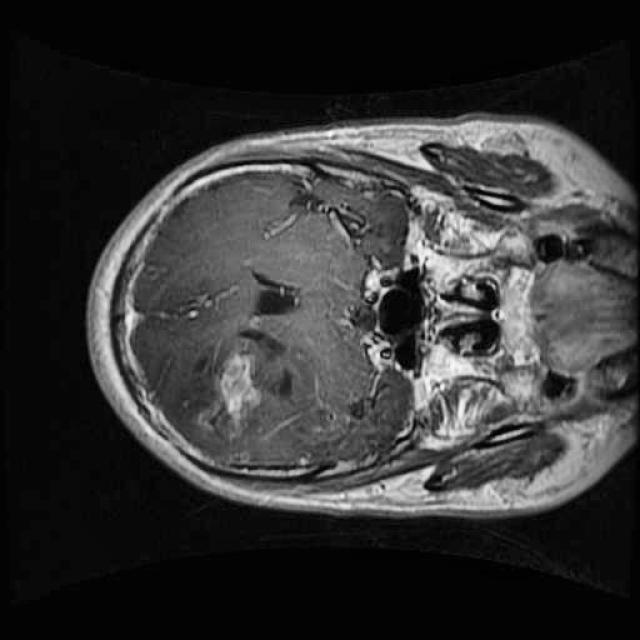Non-Tumor: (176, 316, 306, 470)
